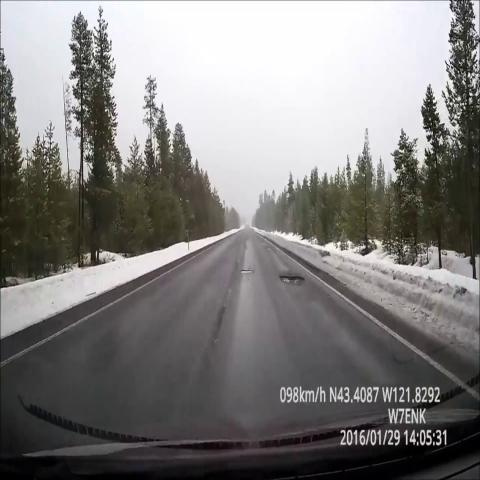pothole: (276, 259, 307, 294), (233, 260, 256, 285)
